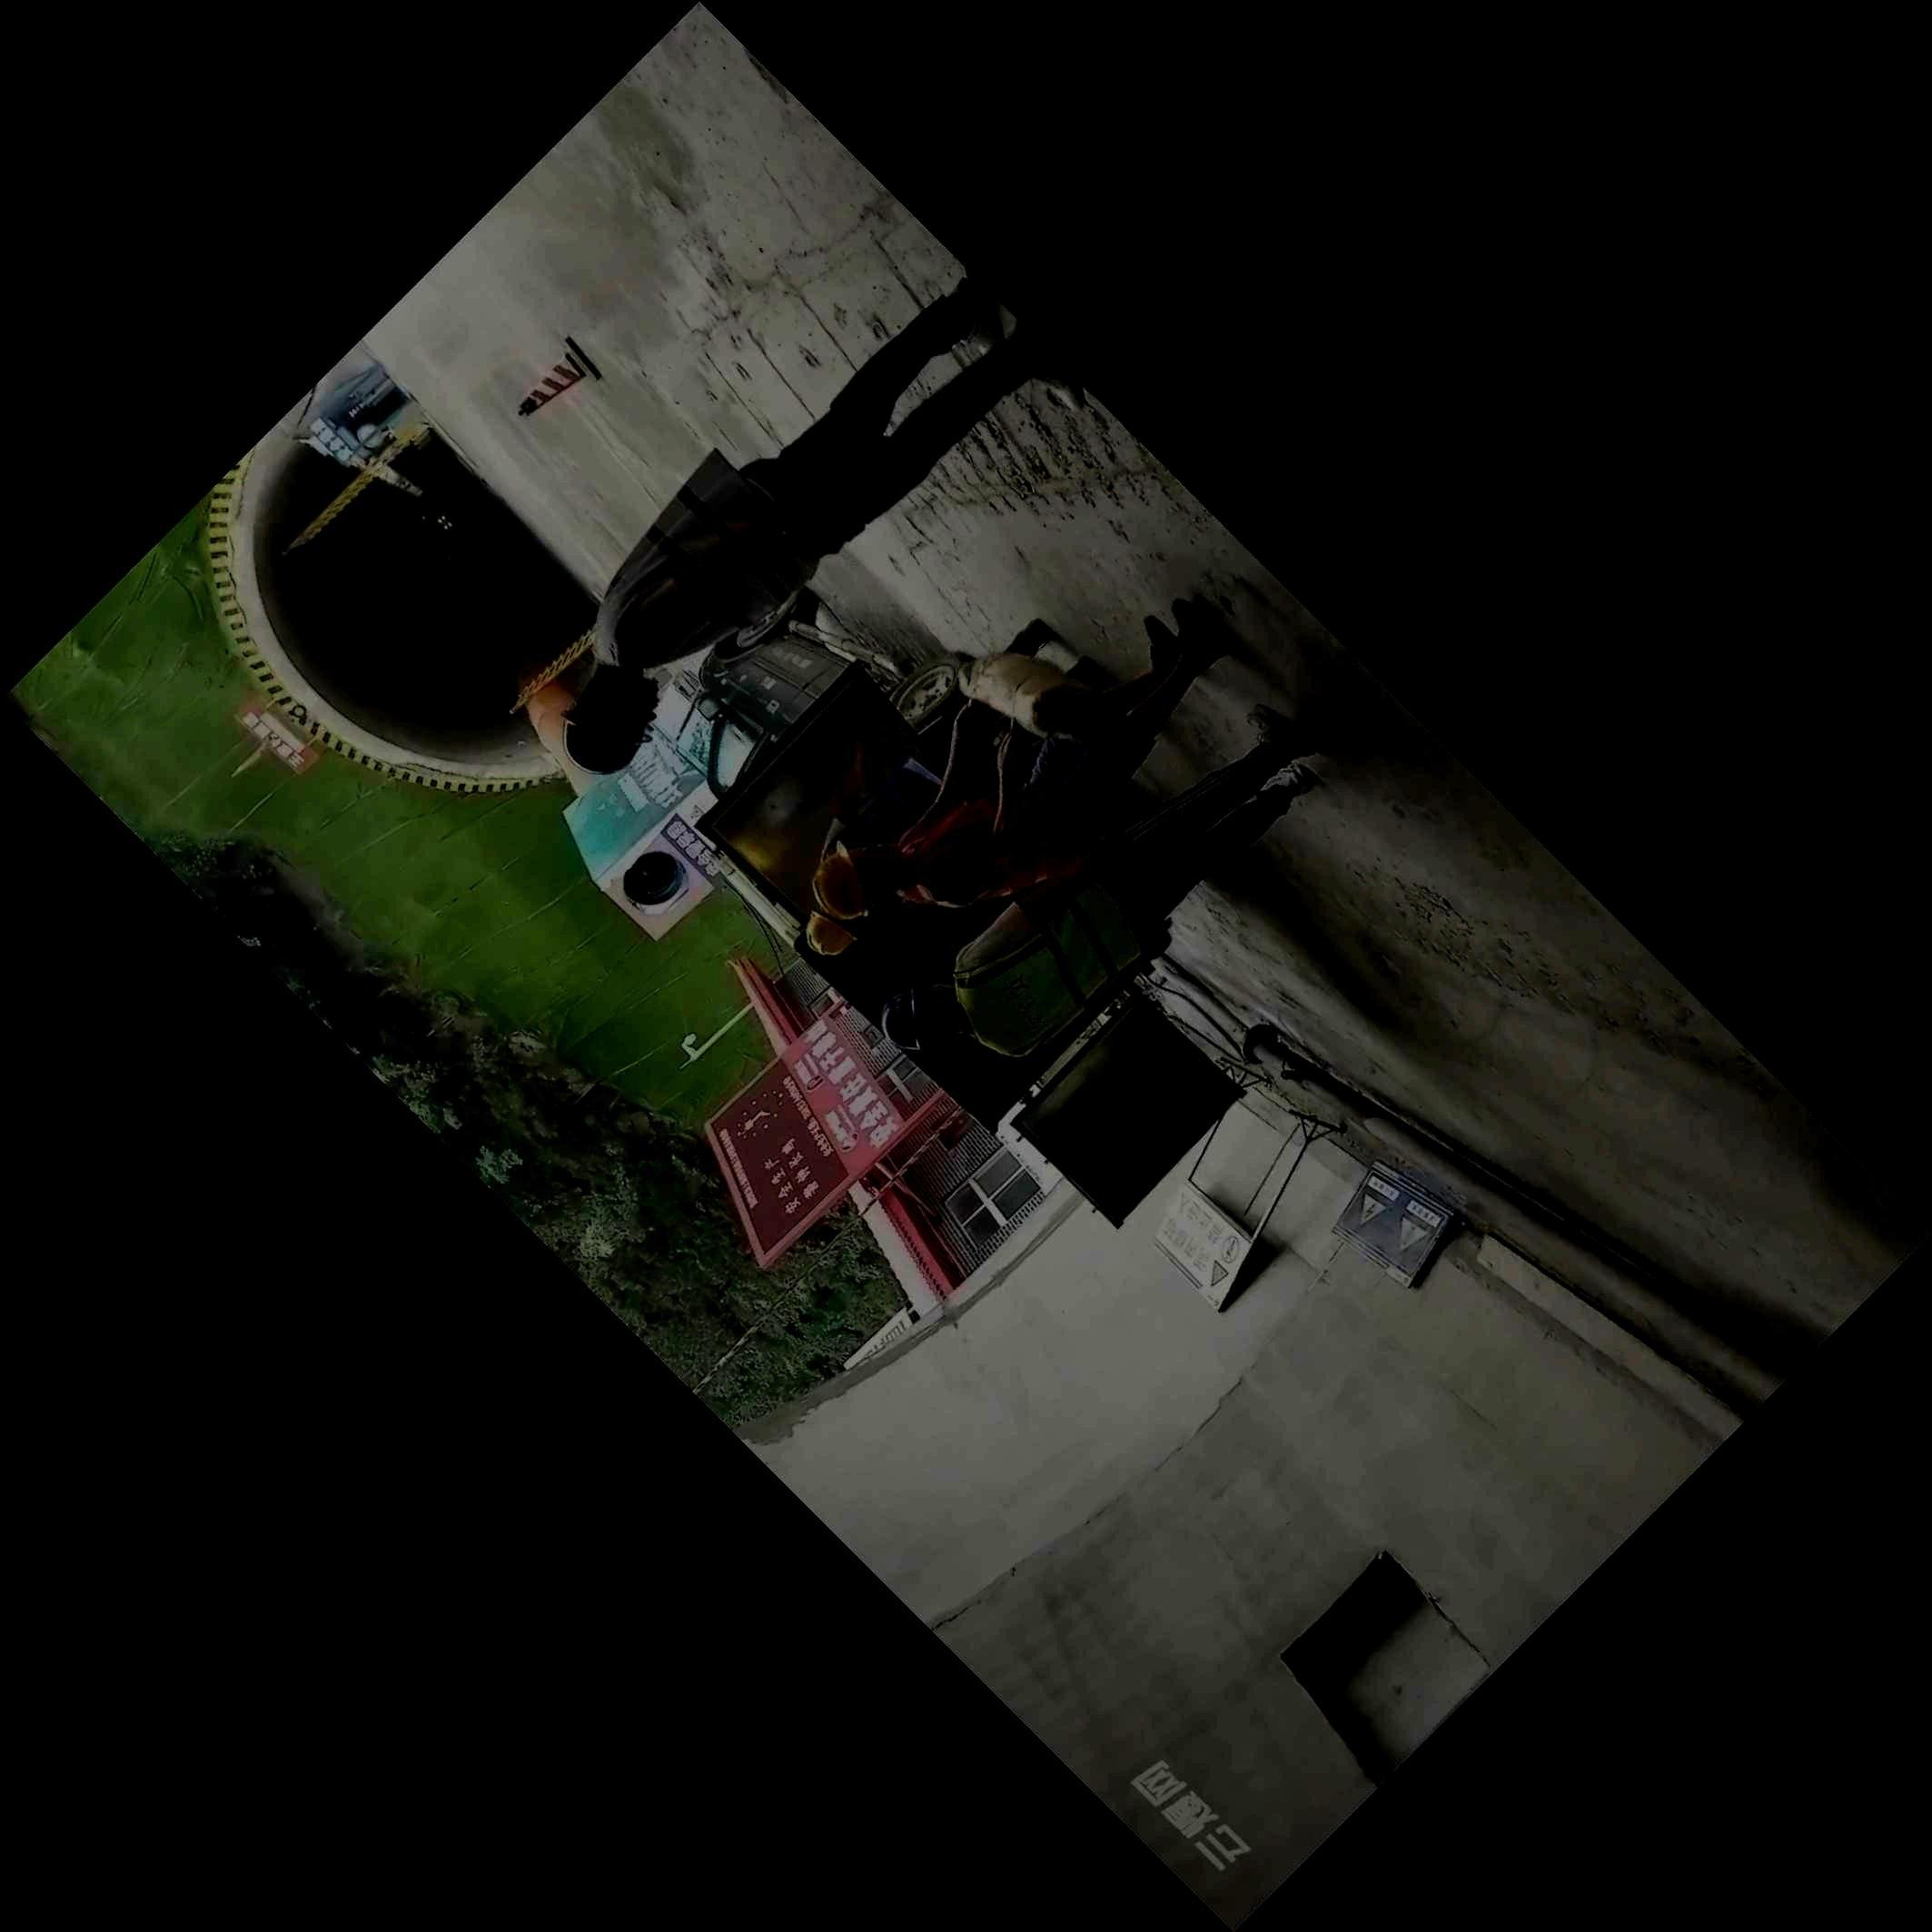helmet: (561, 672, 660, 775), (810, 839, 902, 920), (883, 989, 962, 1049), (805, 911, 858, 955)
